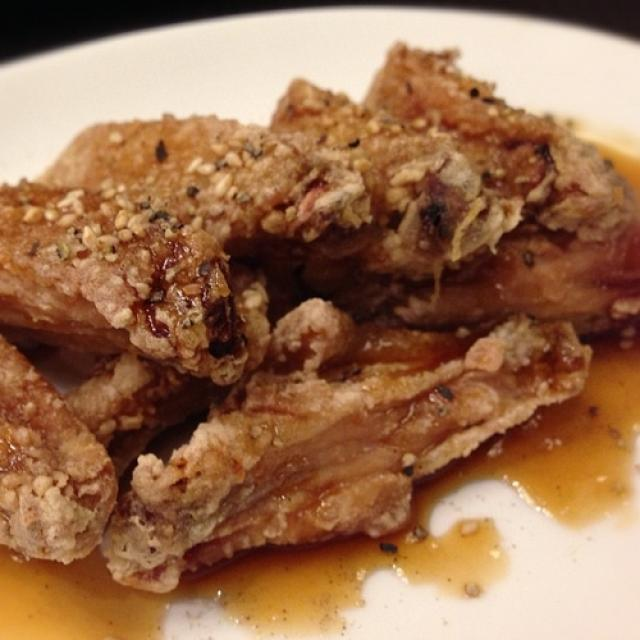Deep fried chicken wing: (17, 69, 631, 594)
